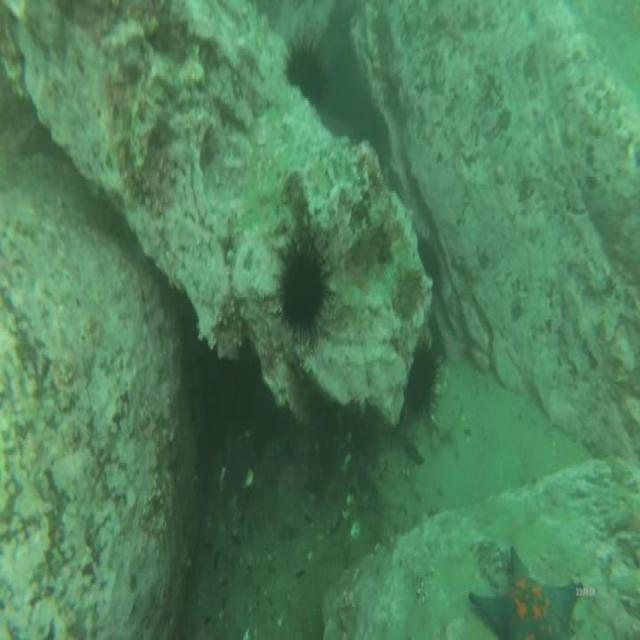echinus: (279, 256, 323, 333), (404, 343, 438, 417), (288, 44, 325, 101), (414, 229, 441, 294)
starfish: (468, 548, 584, 640)
